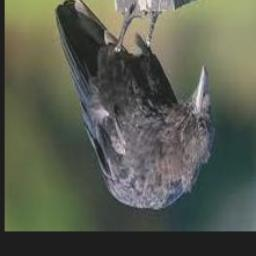Crow: (54, 0, 213, 210)
